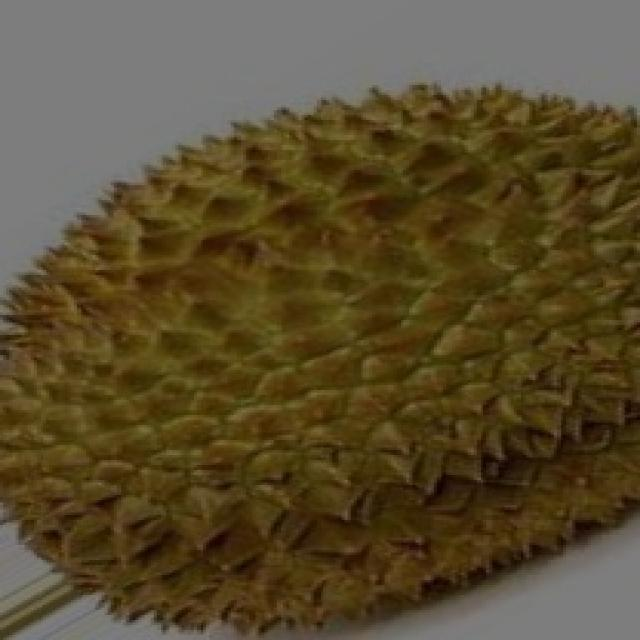fruit: (261, 252, 640, 639), (0, 265, 375, 640)
